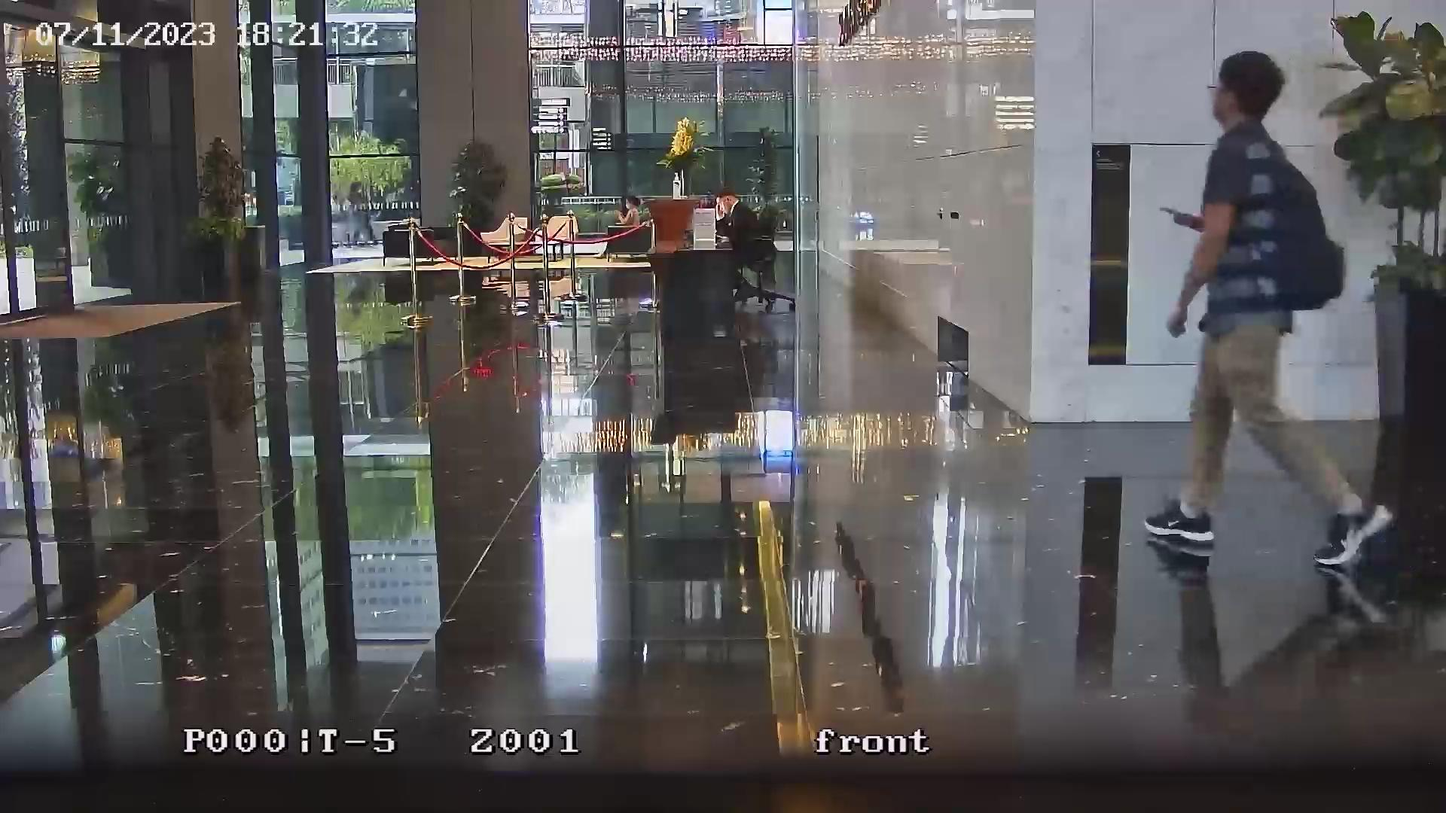person: (1141, 50, 1394, 577), (714, 192, 763, 301), (349, 182, 380, 247), (614, 196, 641, 227)
